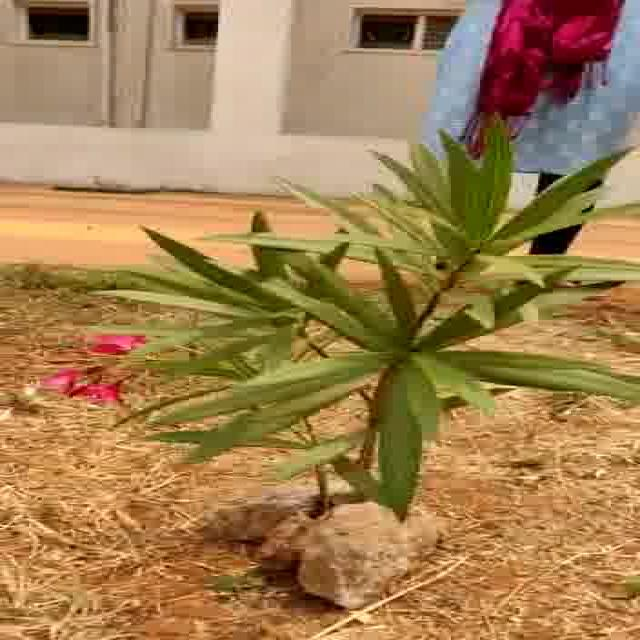Oleander: (87, 176, 621, 463)
